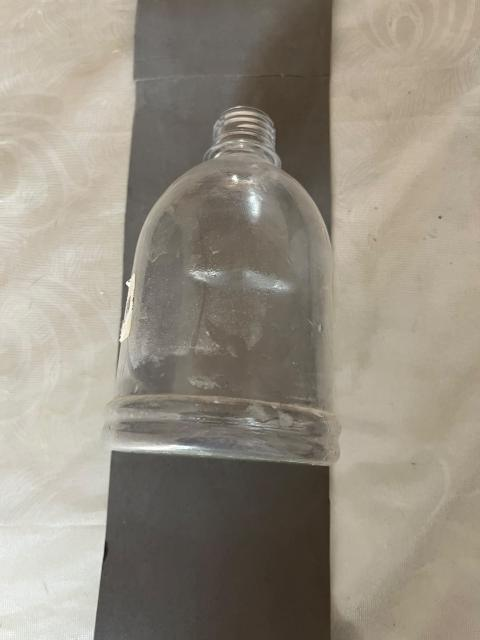PET: (87, 47, 404, 567)
